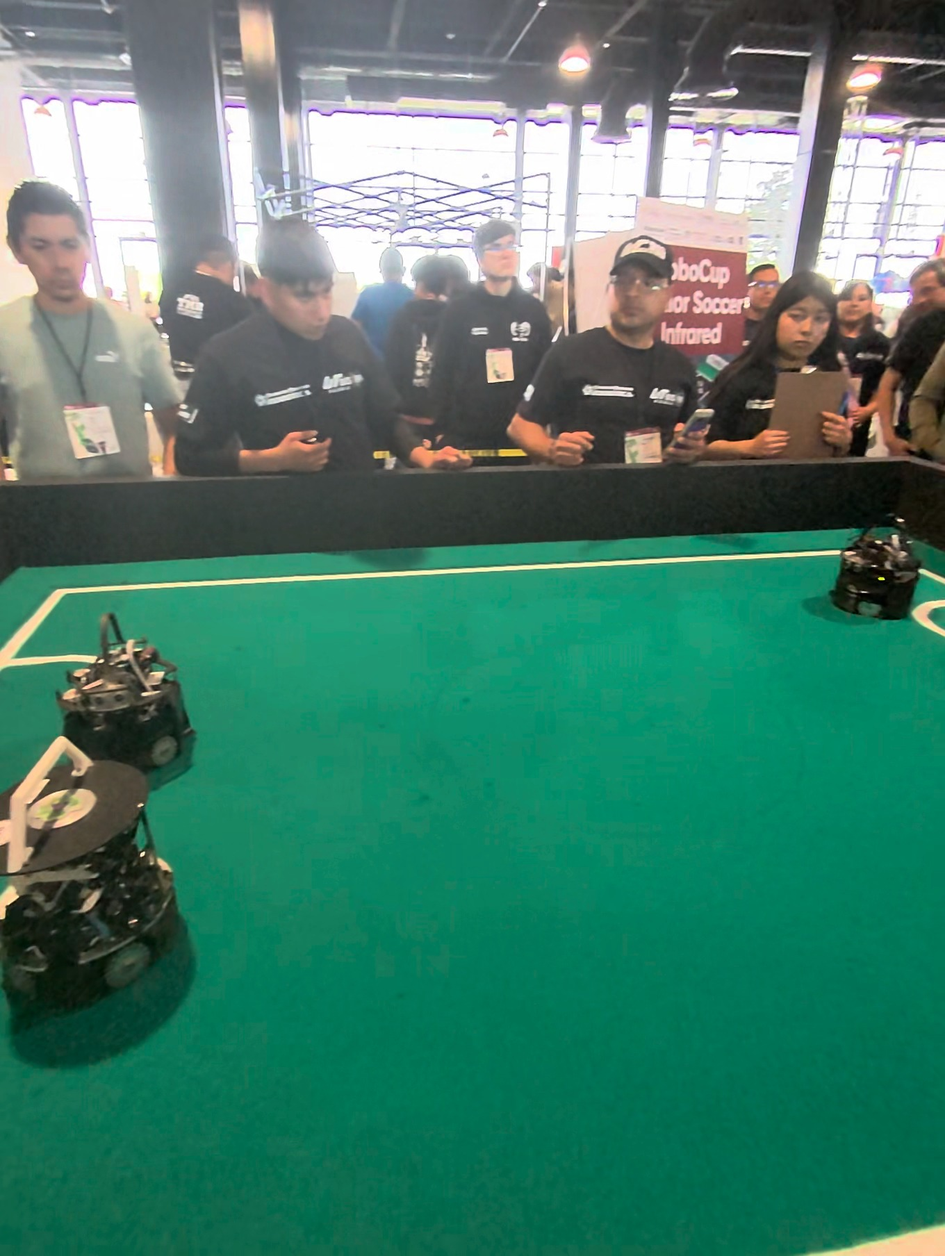Robot: (1, 714, 185, 1053), (50, 609, 202, 778), (828, 510, 921, 627)
